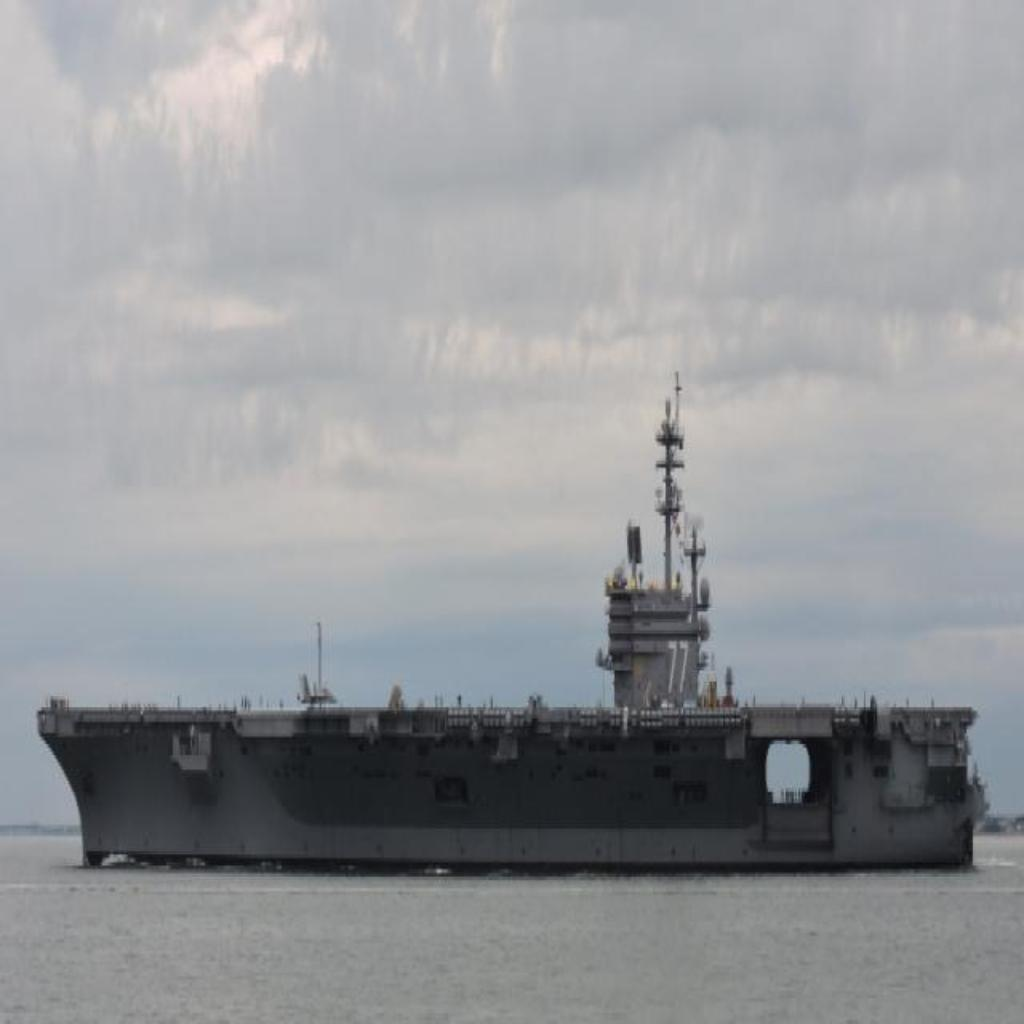Warship: (36, 349, 988, 877)
